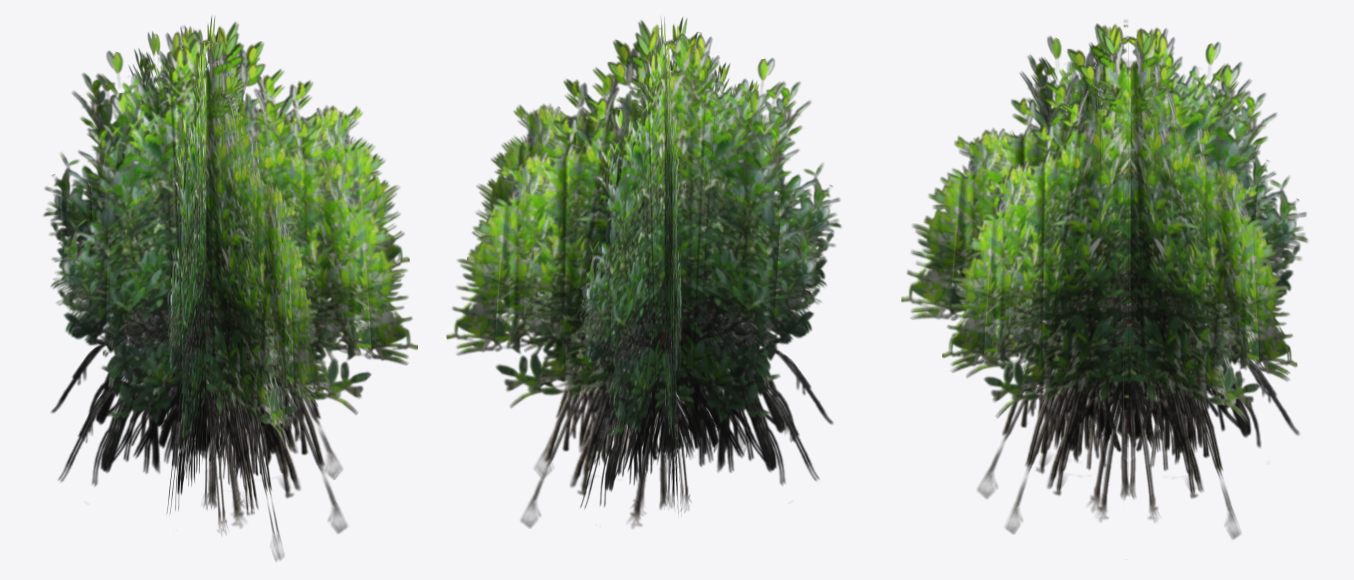
The model's file is mangle.glb.
The picture shows the model from 3 angles, left to right: view 1: azimuth 30°, elevation 25°; view 2: azimuth 150°, elevation 25°; view 3: azimuth 270°, elevation 25°; orthographic projection.
Parts seen in each view (by area): view 1: rhizophora+apiculata, rhizophora+apiculata.003, rhizophora+apiculata.001, rhizophora+apiculata.002; view 2: rhizophora+apiculata, rhizophora+apiculata.002, rhizophora+apiculata.001, rhizophora+apiculata.003; view 3: rhizophora+apiculata.003, rhizophora+apiculata.002, rhizophora+apiculata.001, rhizophora+apiculata.
Part boxes in pixels (box(x1,y1,x2,y2)): rhizophora+apiculata: box(51, 22, 409, 515); rhizophora+apiculata.003: box(43, 30, 417, 533); rhizophora+apiculata.001: box(129, 25, 323, 561); rhizophora+apiculata.002: box(165, 16, 245, 513); rhizophora+apiculata: box(467, 20, 826, 515); rhizophora+apiculata.002: box(446, 31, 841, 528); rhizophora+apiculata.001: box(576, 17, 777, 512); rhizophora+apiculata.003: box(658, 17, 682, 513); rhizophora+apiculata.003: box(942, 27, 1277, 534); rhizophora+apiculata.002: box(1010, 25, 1297, 539); rhizophora+apiculata.001: box(901, 23, 1307, 512); rhizophora+apiculata: box(1123, 20, 1128, 455).
Bounding box in the file's own units: 0.0787 × 0.0986 × 0.0787.
Materials: 1 (1 with a texture image).
